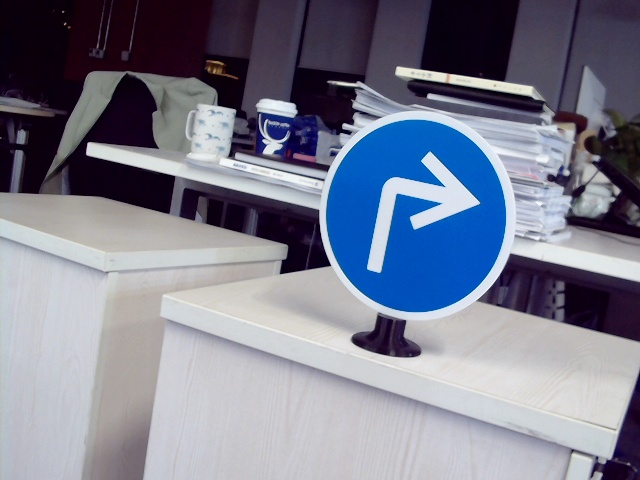turn_right: (362, 146, 473, 276)
